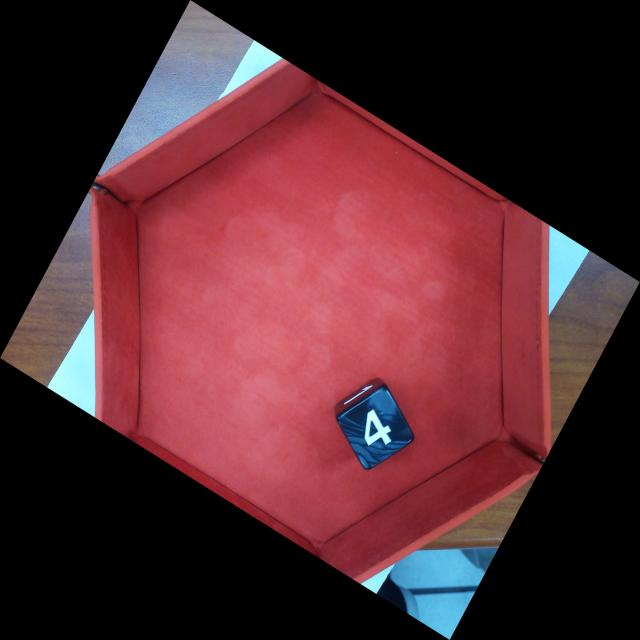dice: (335, 382, 417, 475)
